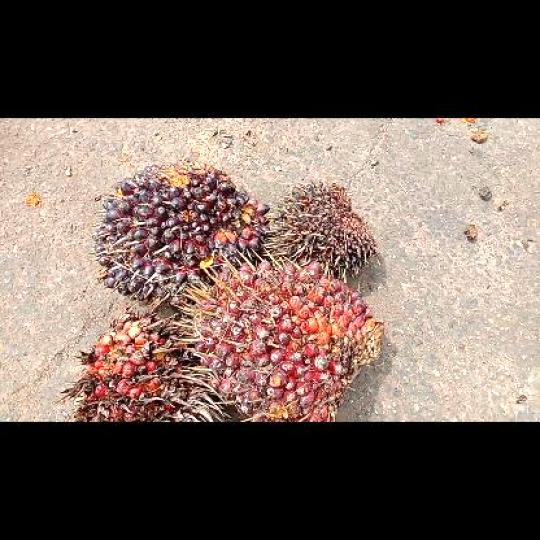kurang masak: (89, 160, 269, 305)
masak: (174, 260, 388, 420)
terlalu masak: (63, 307, 233, 420)
